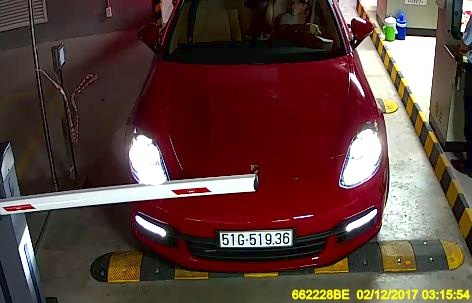plate: (216, 225, 292, 248)
